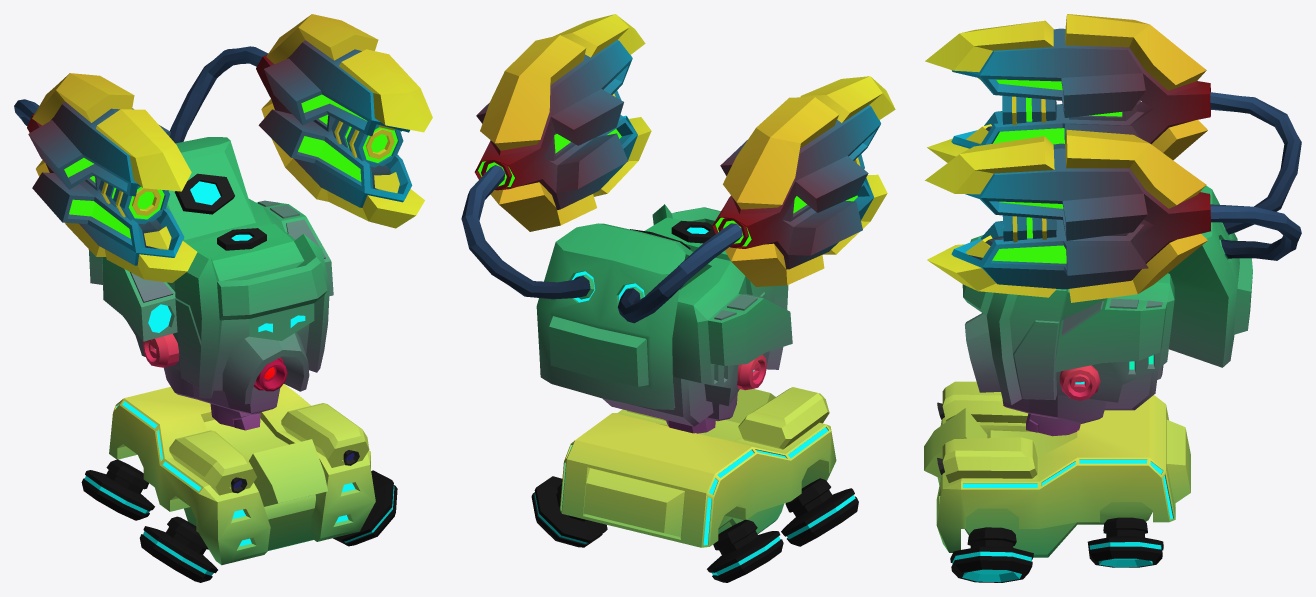
File: BOLT.fbx
3 renders of one model, left to right at view 1: azimuth 30°, elevation 25°; view 2: azimuth 150°, elevation 25°; view 3: azimuth 270°, elevation 25°, orthographic. The views are drawn at different scales.
Parts seen in each view (by area): view 1: Head, Mover; view 2: Head, Mover; view 3: Head, Mover.
Part boxes in pixels (left/top/right/bottom): Head: left=14, top=14, right=432, bottom=430; Mover: left=81, top=384, right=397, bottom=582; Head: left=461, top=14, right=895, bottom=433; Mover: left=531, top=387, right=858, bottom=582; Head: left=925, top=14, right=1301, bottom=436; Mover: left=924, top=381, right=1190, bottom=582.
Bounding box in the file's own units: 72.02 × 92.4 × 67.15.
